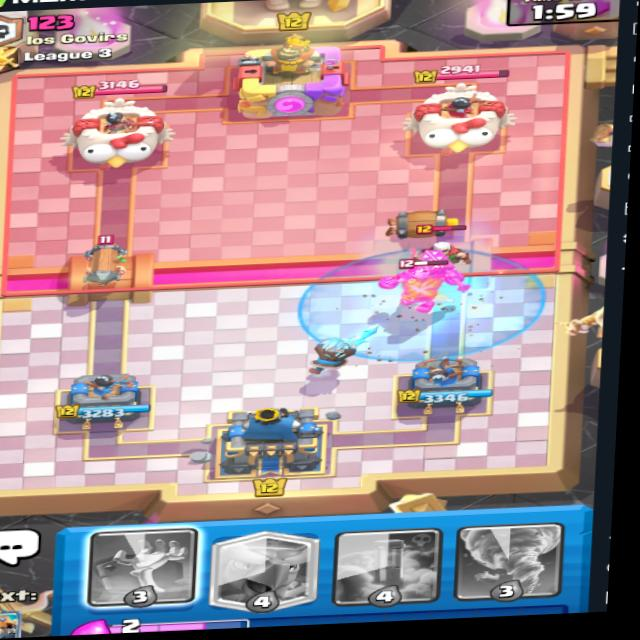battle-ram: (79, 233, 149, 288)
magic-archer: (412, 231, 475, 273)
skeleton-king: (378, 257, 475, 314)
skeleton-king-ability: (277, 245, 552, 363)
